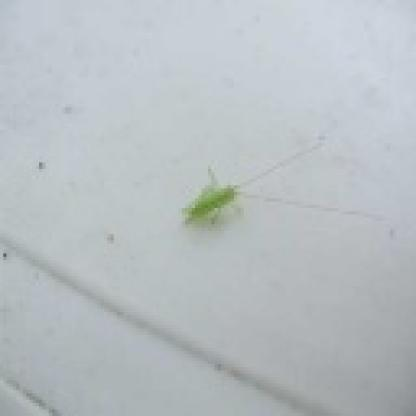grasshopper: (180, 151, 324, 238)
